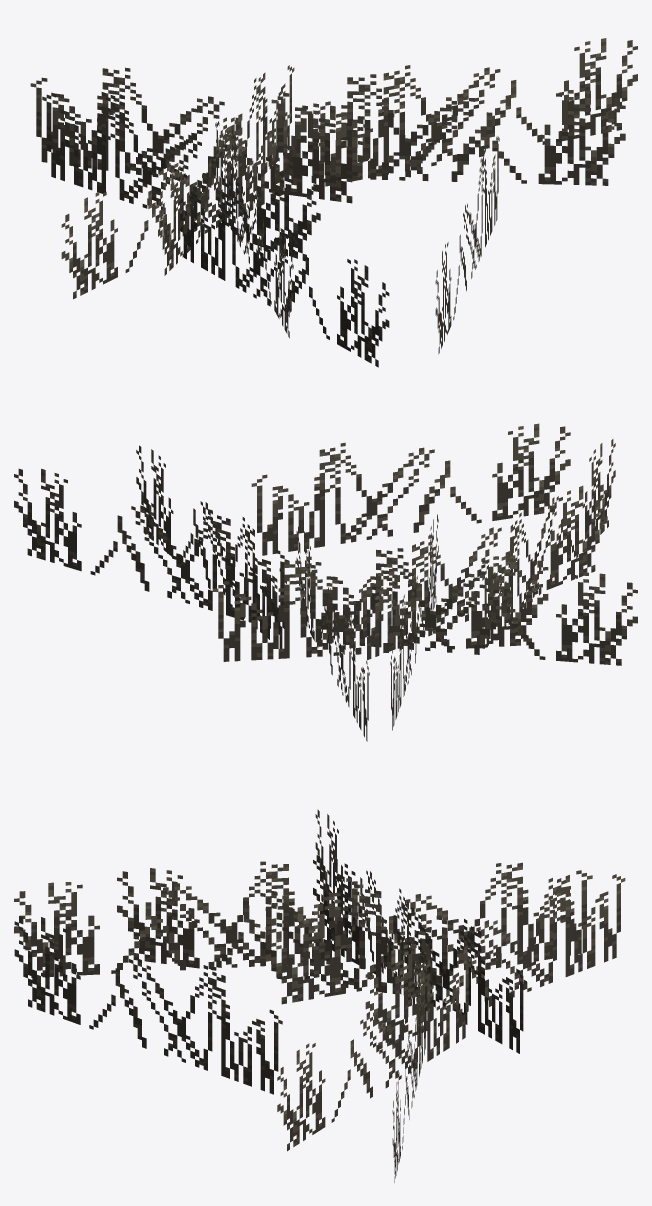
File: CORR_Withered_Grass_Patch.glb
3 views of the same model, one above another, from view 1: azimuth 30°, elevation 25°; view 2: azimuth 150°, elevation 25°; view 3: azimuth 270°, elevation 25° (orthographic). The views are drawn at different scales.
Parts seen in each view (by area): view 1: CORR_Withered_Grass_Patch_Mesh; view 2: CORR_Withered_Grass_Patch_Mesh; view 3: CORR_Withered_Grass_Patch_Mesh.
Part boxes in pixels (bbox=[...]): CORR_Withered_Grass_Patch_Mesh: bbox=[30, 38, 637, 367]; CORR_Withered_Grass_Patch_Mesh: bbox=[14, 423, 637, 741]; CORR_Withered_Grass_Patch_Mesh: bbox=[14, 809, 625, 1182].
Size of the model in its own units: 2.29 by 0.4 by 2.03.
1 material, 1 textured.
